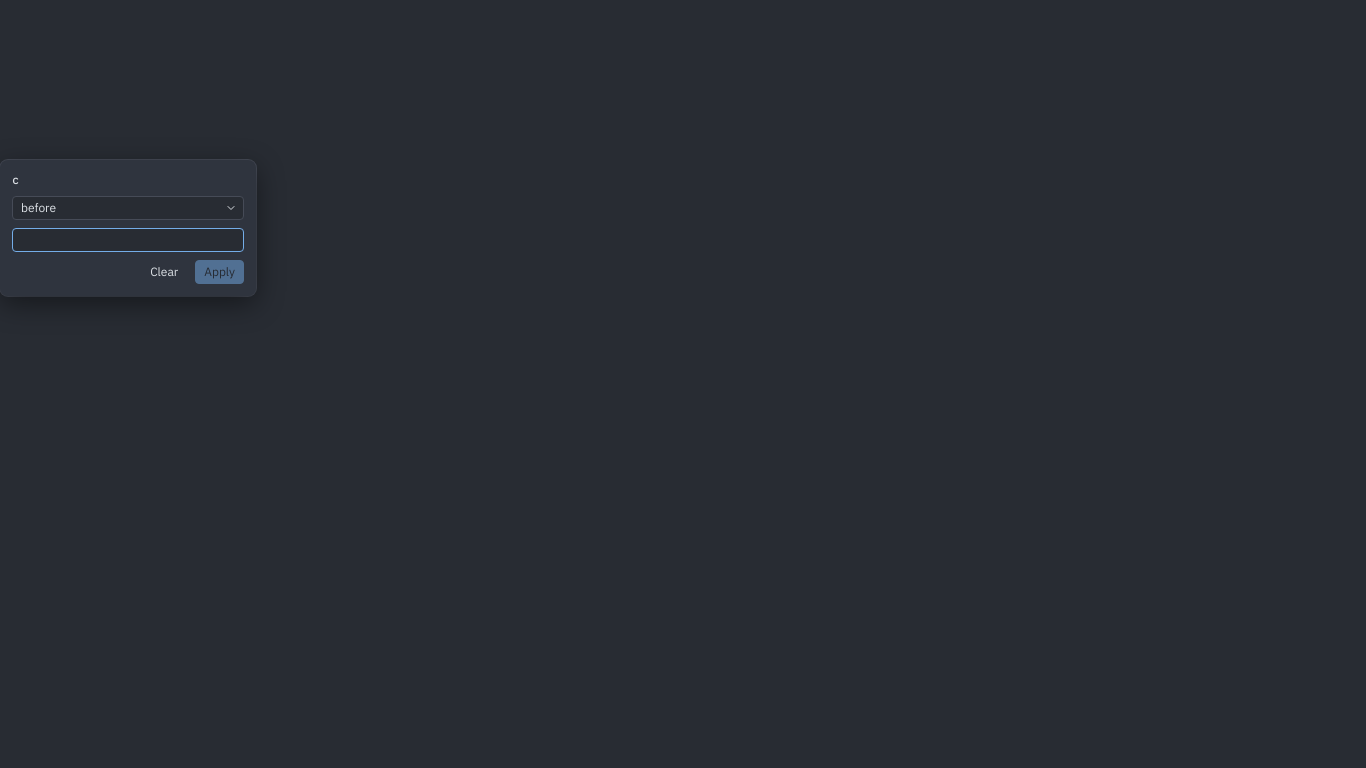
Test case: ColumnFilterPopover › validates ISO 8601 for timestamps
The image size is (1366, 768).
Type "yesterday" into the field named "Value" at [128, 240], box [12,228,244,252]
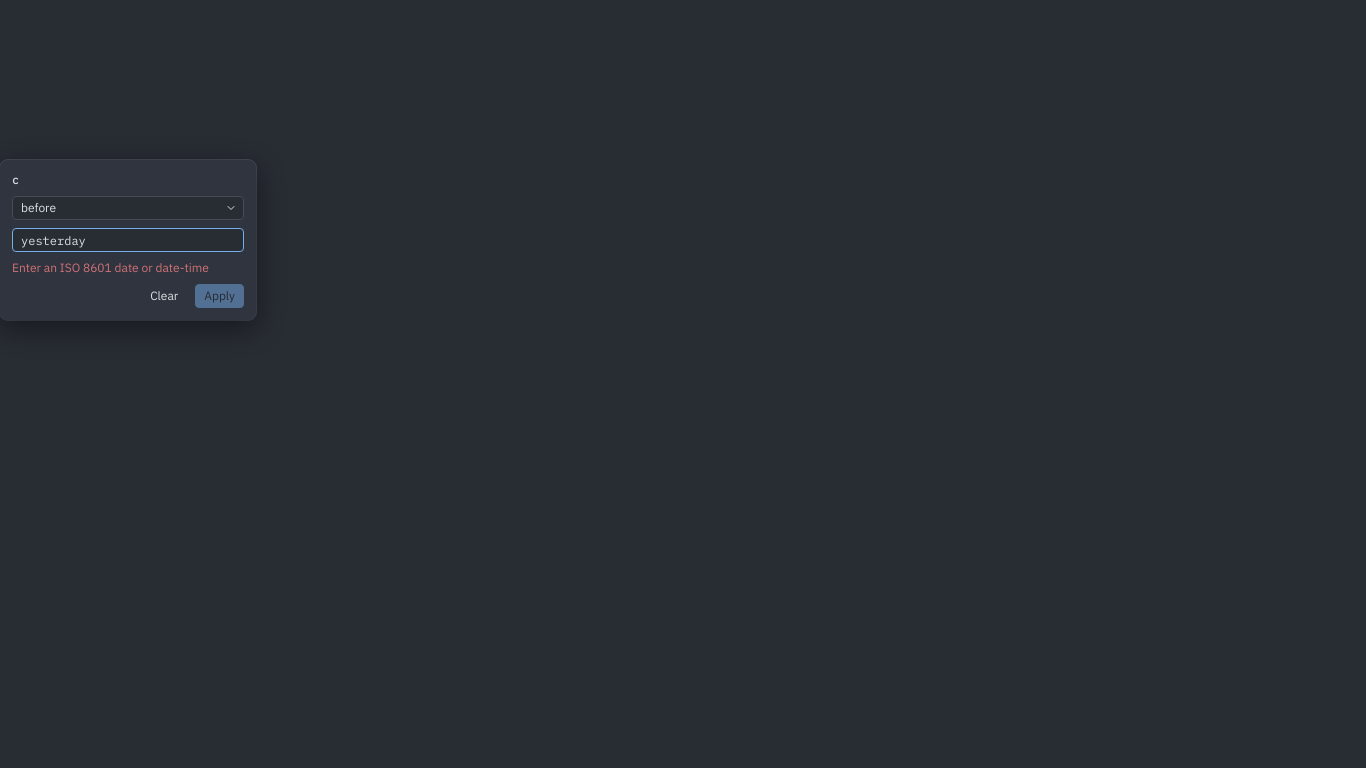
Expected: the button "Apply" is disabled, [195,284,244,308]
Now the message shows "ISO 8601", box [12,260,209,275]
